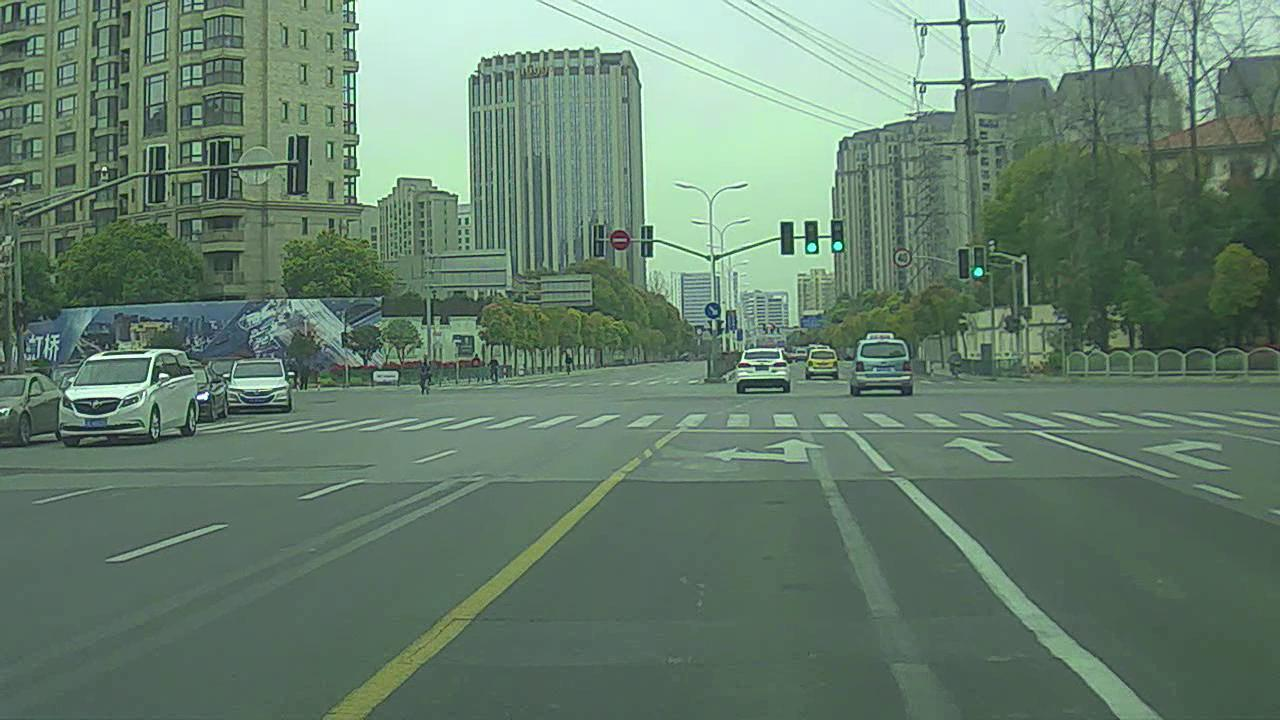traffic_light: (779, 221, 796, 254), (830, 220, 846, 252), (957, 249, 972, 280), (971, 246, 985, 278), (804, 221, 817, 254)
